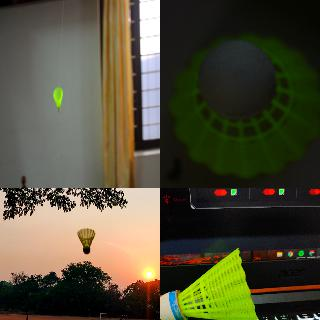shuttlecock: (170, 33, 319, 177), (160, 247, 262, 319), (77, 228, 95, 254), (53, 87, 63, 112)
